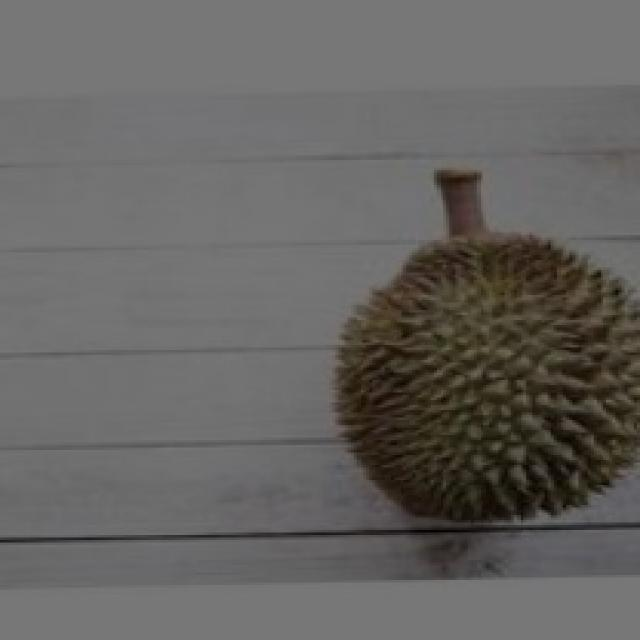fruit: (301, 200, 640, 535)
